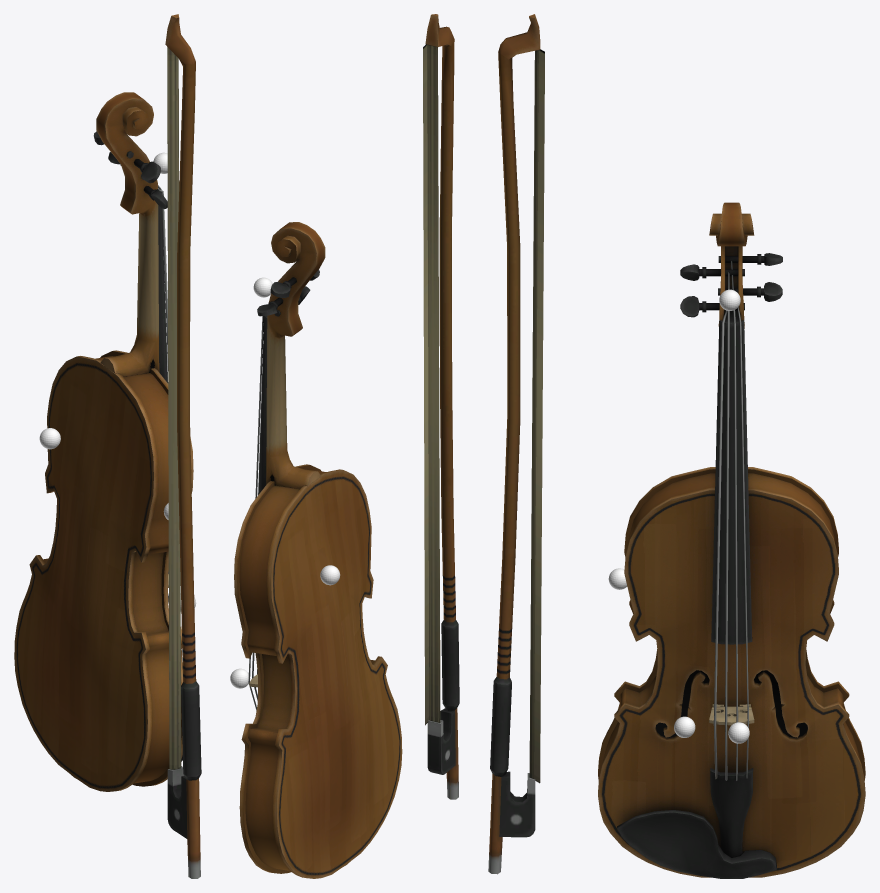
Rendered from violin.glb.
The picture shows the model from 3 angles, left to right: view 1: azimuth 30°, elevation 25°; view 2: azimuth 150°, elevation 25°; view 3: azimuth 270°, elevation 25°; orthographic projection. The views are drawn at different scales.
Parts seen in each view (by area): view 1: violin.smd, violin_bow.smd; view 2: violin.smd, violin_bow.smd; view 3: violin.smd, violin_bow.smd.
Boxes of the visible parts, x1,y1,x2,y2 form: violin.smd: (14, 92, 193, 791); violin_bow.smd: (165, 14, 201, 878); violin.smd: (234, 222, 402, 878); violin_bow.smd: (423, 14, 459, 799); violin.smd: (598, 202, 865, 878); violin_bow.smd: (488, 14, 544, 874).
Bounding box in the file's own units: 0.1328 × 0.8203 × 0.3275.
Materials: 8 (2 with a texture image).
